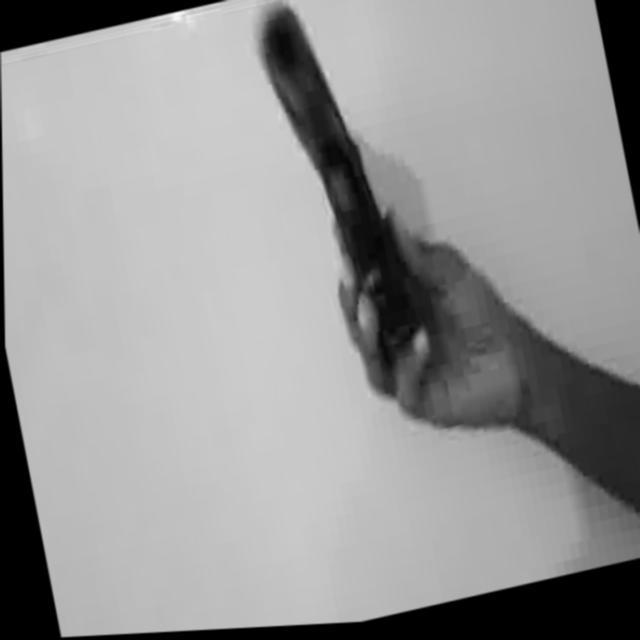weapon: (250, 0, 451, 403)
